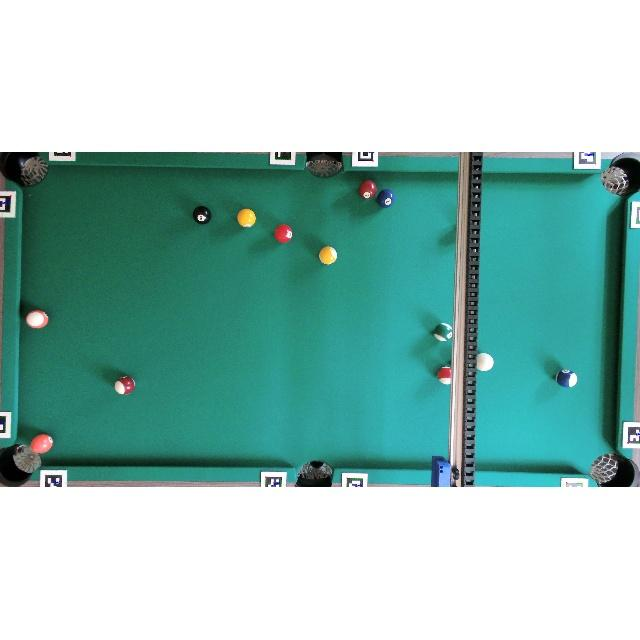cue ball: (476, 353, 494, 371)
other: (30, 433, 54, 455), (555, 369, 577, 388), (26, 310, 48, 329), (237, 208, 256, 228), (114, 376, 134, 395), (433, 322, 452, 342), (358, 180, 377, 199), (274, 224, 293, 243), (376, 189, 395, 208), (193, 205, 212, 224), (319, 246, 337, 265), (437, 366, 452, 384)
